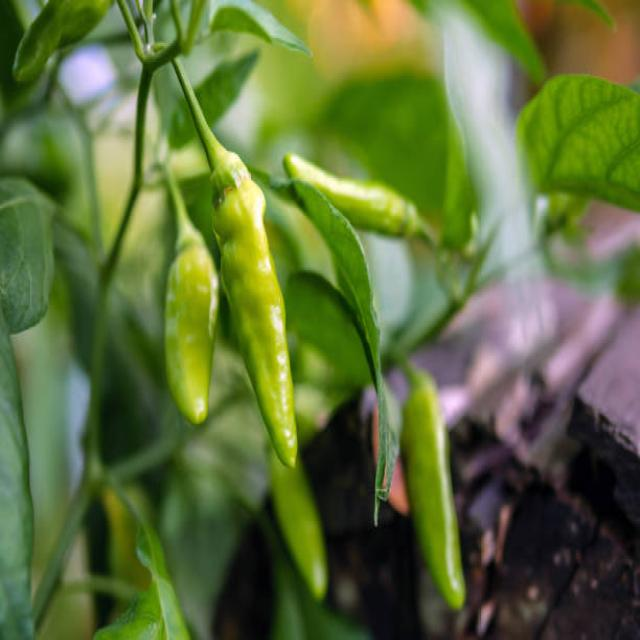Unripe: (212, 146, 296, 465), (166, 222, 218, 426)
